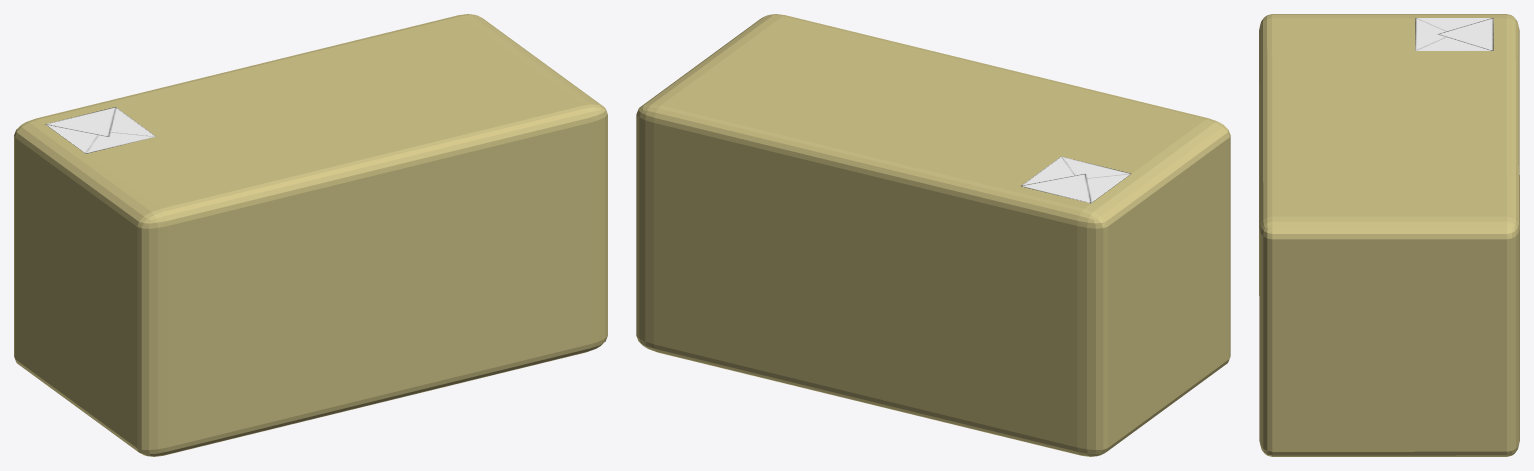
Rendered from Message.dae.
3 renders of one model, left to right at view 1: azimuth 30°, elevation 25°; view 2: azimuth 150°, elevation 25°; view 3: azimuth 270°, elevation 25°, orthographic. The views are drawn at different scales.
Parts seen in each view (by area): view 1: Cube, Plane; view 2: Cube, Plane; view 3: Cube, Plane.
Boxes of the visible parts, box(x1,y1,x2,y2) form: Cube: box(14, 14, 607, 456); Plane: box(45, 107, 155, 153); Cube: box(636, 14, 1230, 456); Plane: box(1021, 156, 1130, 203); Cube: box(1259, 14, 1519, 456); Plane: box(1415, 18, 1493, 50).
Bounding box in the file's own units: 2 × 1 × 1.
Materials: 2 (1 with a texture image).
